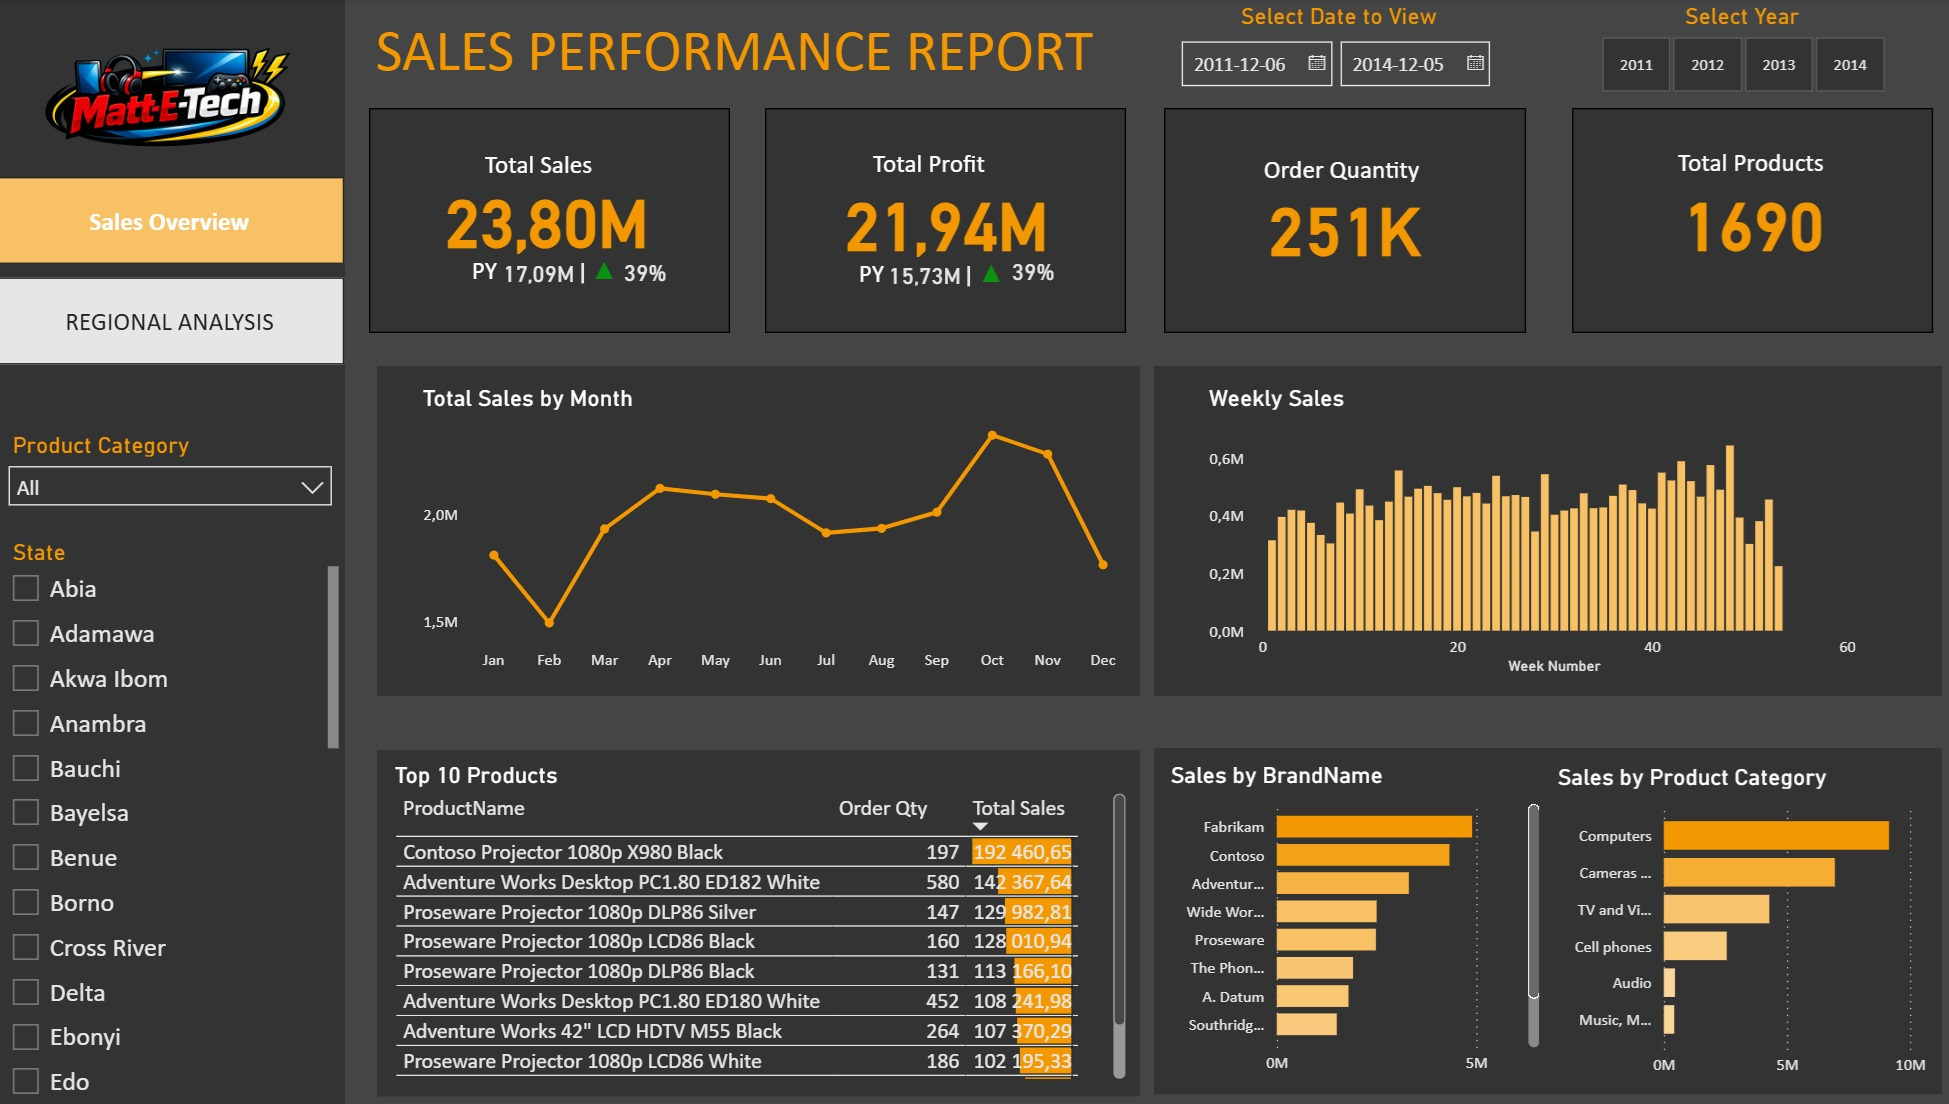

This screenshot's page, from the dashboard's own definition file:
{"tool":"powerbi","page":{"name":"Sales Overview","canvas":[1440,840],"ordinal":0},"visuals":[{"type":"shape","box":[0,0,257.7,840],"z":0},{"type":"image","box":[0,0,257.7,171.5],"z":1000},{"type":"textbox","box":[275.3,6.6,552.9,64.8],"z":2000},{"type":"shape","box":[275.3,80.2,265.8,165.6],"z":3000},{"type":"card","fields":{"Values":["Measures_.Total Sales"]},"box":[318.5,118.5,174.5,83.2],"z":4000},{"type":"textbox","box":[355.6,105.3,100.9,33.1],"z":5000},{"type":"card","fields":{"Values":["Measures_.Sales_YoY%"]},"box":[456.7,185.2,44.4,33],"z":6000},{"type":"card","fields":{"Values":["Measures_.Sales_Icon"]},"box":[432.4,185.2,33,30.8],"z":7000},{"type":"card","fields":{"Values":["Measures_.Sales_LY"]},"box":[367.9,186.7,64.5,31.5],"z":8000},{"type":"textbox","box":[346.4,183.1,33,33],"z":9000},{"type":"shape","box":[423.8,194.6,17.2,15.1],"z":10000},{"type":"shape","box":[566.9,80.2,265.8,165.6],"z":11000},{"type":"card","fields":{"Values":["Measures_.Total Profit"]},"box":[613,120.7,174.2,83.1],"z":12000},{"type":"textbox","box":[641.2,104.5,111.2,34.6],"z":13000},{"type":"card","fields":{"Values":["Measures_.Profit_YoY%"]},"box":[741.3,187.1,45.9,28.7],"z":14000},{"type":"card","fields":{"Values":["Measures_.Profit_Icon"]},"box":[716.9,187.4,33,30.8],"z":15000},{"type":"card","fields":{"Values":["Measures_.Profit_LY"]},"box":[652.4,188.8,64.5,31.5],"z":16000},{"type":"textbox","box":[630.9,185.2,33,33],"z":17000},{"type":"shape","box":[708.3,196.7,17.2,15.1],"z":18000},{"type":"shape","box":[860.6,80.2,266.5,165.6],"z":19000},{"type":"card","fields":{"Values":["Sum(SalesData.Order Qty)"]},"box":[906.3,124.2,174.2,83.1],"z":20000},{"type":"textbox","box":[929.2,109.1,128.3,33.7],"z":21000},{"type":"shape","box":[1161,80.2,265.8,165.6],"z":22000},{"type":"card","fields":{"Values":["CountNonNull(SalesProduct.ProductName)"]},"box":[1207.1,120.8,174.2,83.1],"z":23000},{"type":"textbox","box":[1233.6,103.6,133.3,34.4],"z":24000},{"type":"shape","box":[281.2,270.2,561.7,242.9],"z":25000},{"type":"shape","box":[281.2,552.9,561.7,255.5],"z":26000},{"type":"shape","box":[853.3,270.2,580.1,242.9],"z":27000},{"type":"shape","box":[853.3,551.4,580.1,255.5],"z":28000},{"type":"lineChart","fields":{"Y":["Measures_.Total Sales"],"Category":["DATES.Date Hierarchy.Date","DATES.Date Hierarchy.Year","DATES.Date Hierarchy.Month"]},"box":[309.9,283.4,527.1,218.7],"z":29000},{"type":"clusteredColumnChart","title":"Weekly Sales","fields":{"Category":["DATES.Day Of Week Num"],"Y":["Measures_.Total Sales"]},"box":[888.7,283.1,485.9,218.6],"z":30000},{"type":"tableEx","title":"Top 10 Products","fields":{"Values":["SalesProduct.ProductName","Sum(SalesData.Order Qty)","Measures_.Total Sales"]},"box":[289.3,561,547.7,239.3],"z":31000},{"type":"clusteredBarChart","title":"Sales by BrandName","fields":{"Y":["Measures_.Total Sales"],"Category":["SalesProduct.BrandName"]},"box":[860.6,561,281.2,237.8],"z":32000},{"type":"clusteredBarChart","title":"Sales by Product Category","fields":{"Y":["Measures_.Total Sales"],"Category":["SalesProductSubCat.Product Category"]},"box":[1145.5,562.5,281.2,237.8],"z":33000},{"type":"slicer","title":"Select Date to View","fields":{"Values":["DATES.Date"]},"box":[860.6,2.2,257.7,72.9],"z":34000},{"type":"slicer","title":"Select Year","fields":{"Values":["DATES.Year"]},"box":[1157.3,2.2,257.7,72.9],"z":35000},{"type":"slicer","fields":{"Values":["SalesProductSubCat.Product Category"]},"box":[0,312.9,257.7,78.8],"z":36000},{"type":"slicer","fields":{"Values":["SalesState.State"]},"box":[0,391.7,257.7,435.8],"z":37000},{"type":"pageNavigator","box":[0,131,257.7,139.1],"z":38000}]}

Visuals, with their boxes in screenshot pixels (x1, y1, x2, y2), scaled from the page's 1440x840 canvas onto the 1949x1104 screenshot:
shape: (0, 0, 349, 1103)
image: (0, 0, 349, 225)
textbox: (373, 9, 1121, 94)
shape: (373, 105, 732, 323)
card - Measures_.Total Sales: (431, 156, 667, 265)
textbox: (481, 138, 618, 182)
card - Measures_.Sales_YoY%: (618, 243, 678, 287)
card - Measures_.Sales_Icon: (585, 243, 630, 284)
card - Measures_.Sales_LY: (498, 245, 585, 287)
textbox: (469, 241, 514, 284)
shape: (574, 256, 597, 276)
shape: (767, 105, 1127, 323)
card - Measures_.Total Profit: (830, 159, 1065, 268)
textbox: (868, 137, 1018, 183)
card - Measures_.Profit_YoY%: (1003, 246, 1065, 284)
card - Measures_.Profit_Icon: (970, 246, 1015, 287)
card - Measures_.Profit_LY: (883, 248, 970, 290)
textbox: (854, 243, 899, 287)
shape: (959, 259, 982, 278)
shape: (1165, 105, 1525, 323)
card - Sum(SalesData.Order Qty): (1227, 163, 1462, 272)
textbox: (1258, 143, 1431, 188)
shape: (1571, 105, 1931, 323)
card - CountNonNull(SalesProduct.ProductName): (1634, 159, 1870, 268)
textbox: (1670, 136, 1850, 181)
shape: (381, 355, 1141, 674)
shape: (381, 727, 1141, 1062)
shape: (1155, 355, 1940, 674)
shape: (1155, 725, 1940, 1060)
lineChart - Measures_.Total Sales x DATES.Date Hierarchy.Date: (419, 372, 1133, 660)
"Weekly Sales" clusteredColumnChart: (1203, 372, 1860, 659)
"Top 10 Products" tableEx: (392, 737, 1133, 1052)
"Sales by BrandName" clusteredBarChart: (1165, 737, 1545, 1050)
"Sales by Product Category" clusteredBarChart: (1550, 739, 1931, 1052)
"Select Date to View" slicer: (1165, 3, 1514, 99)
"Select Year" slicer: (1566, 3, 1915, 99)
slicer - SalesProductSubCat.Product Category: (0, 411, 349, 515)
slicer - SalesState.State: (0, 515, 349, 1088)
pageNavigator: (0, 172, 349, 355)
